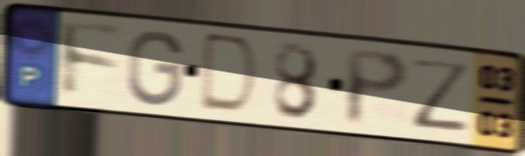8: (270, 40, 319, 123)
D: (196, 29, 263, 119)
F: (58, 17, 127, 102)
G: (124, 28, 186, 110)
P: (342, 46, 413, 130)
Z: (409, 55, 475, 135)
